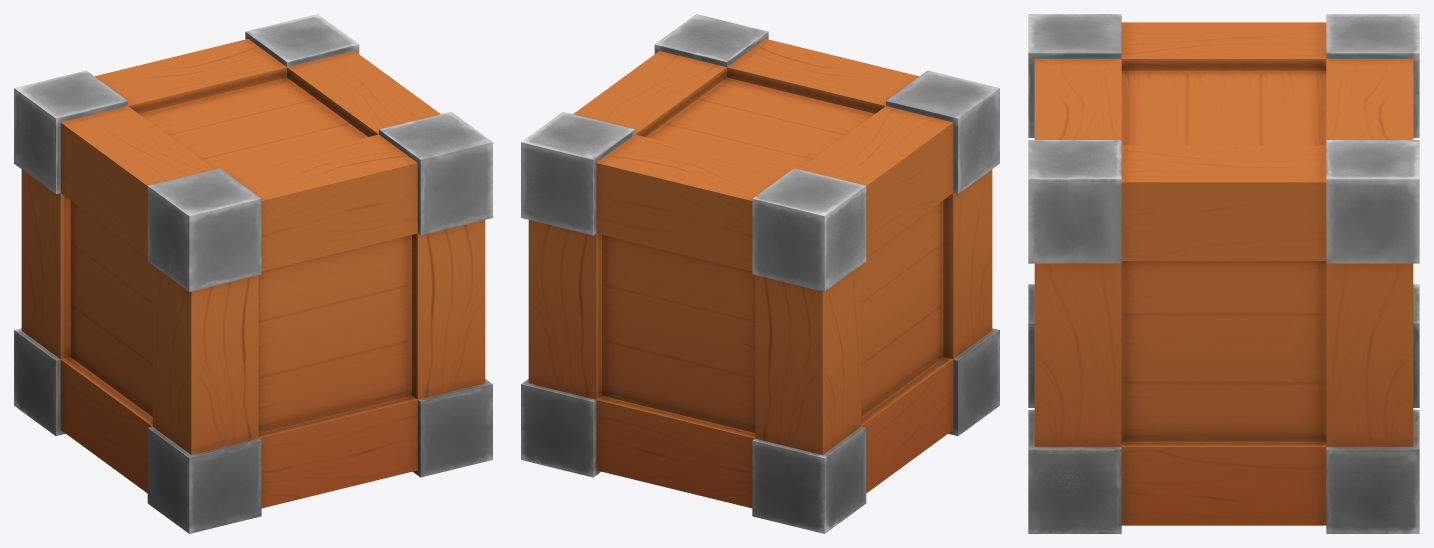
3 renders of one model, left to right at view 1: azimuth 30°, elevation 25°; view 2: azimuth 150°, elevation 25°; view 3: azimuth 270°, elevation 25°, orthographic. The views are drawn at different scales.
Visible parts, largest first — view 1: wooden box; view 2: wooden box; view 3: wooden box.
Part boxes in pixels (left/top/right/bottom): wooden box: left=14, top=14, right=492, bottom=533; wooden box: left=521, top=14, right=999, bottom=533; wooden box: left=1028, top=14, right=1419, bottom=533.
Bounding box in the file's own units: 1 × 1 × 1.
